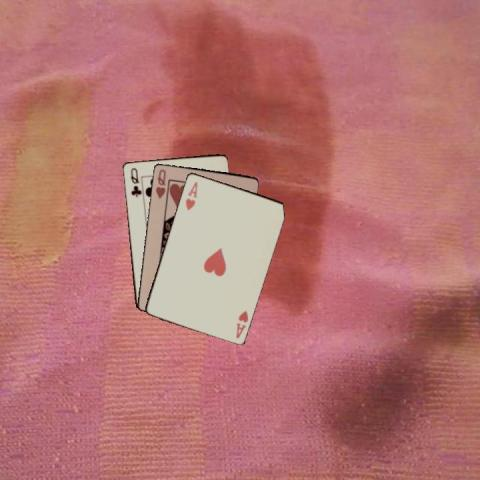Ah: (182, 178, 199, 212), (233, 308, 249, 340)
Qc: (128, 165, 142, 198)
Qh: (152, 166, 166, 200)
